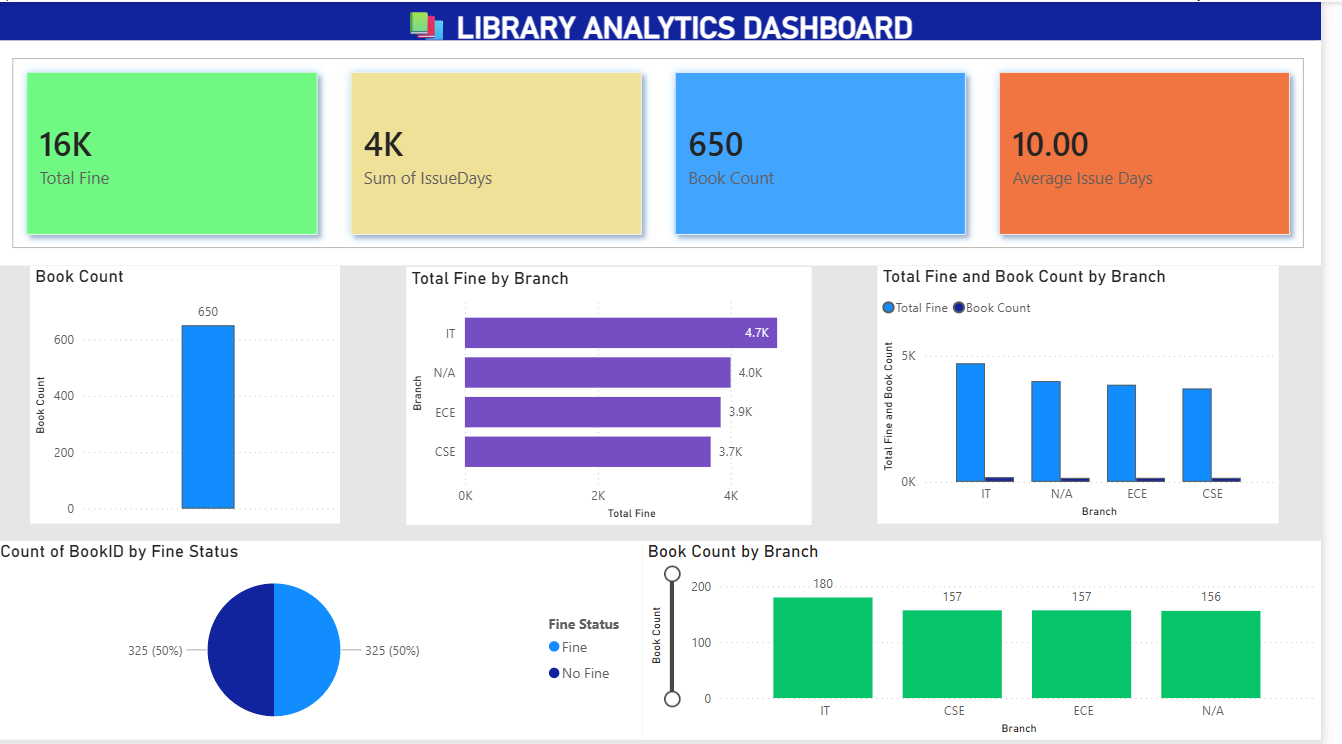

The dashboard page shown, as its layout file describes it:
{"tool":"powerbi","page":{"name":"Page 1","canvas":[1280,720],"ordinal":0},"visuals":[{"type":"cardVisual","fields":{"Data":["Dirty_Library_Analytics_650.Total Fine","Sum(Dirty_Library_Analytics_650.IssueDays)","Dirty_Library_Analytics_650.Book Count","Dirty_Library_Analytics_650.Average Issue Days"]},"box":[0,37.1,1280,217.1],"z":0},{"type":"clusteredColumnChart","fields":{"Y":["Dirty_Library_Analytics_650.Total Fine","Dirty_Library_Analytics_650.Book Count"],"Category":["Dirty_Library_Analytics_650.Branch"]},"box":[851.4,254.3,387.1,248.6],"z":1000},{"type":"clusteredColumnChart","fields":{"Y":["Dirty_Library_Analytics_650.Book Count"]},"box":[33.8,254.6,299.2,248.5],"z":2000},{"type":"clusteredBarChart","fields":{"Category":["Dirty_Library_Analytics_650.Branch"],"Y":["Dirty_Library_Analytics_650.Total Fine"]},"box":[397.1,255.7,391.4,248.6],"z":3000},{"type":"clusteredColumnChart","fields":{"Category":["Dirty_Library_Analytics_650.Branch"],"Y":["Dirty_Library_Analytics_650.Book Count"]},"box":[624.9,520,655.1,191.8],"z":4000},{"type":"pieChart","fields":{"Category":["Dirty_Library_Analytics_650.Fine Status"],"Y":["CountNonNull(Dirty_Library_Analytics_650.BookID)"]},"box":[0,520,624.9,191.8],"z":5000},{"type":"textbox","title":"📚 LIBRARY ANALYTICS DASHBOARD","box":[0,0,1280,37.1],"z":6000}]}

Visuals, with their boxes in screenshot pixels (x1, y1, x2, y2), scaled from the page's 1280x720 canvas onto the 1342x744 screenshot:
cardVisual - Dirty_Library_Analytics_650.Total Fine x Sum(Dirty_Library_Analytics_650.IssueDays): 0, 38, 1341, 263
clusteredColumnChart - Dirty_Library_Analytics_650.Total Fine x Dirty_Library_Analytics_650.Book Count: 893, 263, 1298, 520
clusteredColumnChart - Dirty_Library_Analytics_650.Book Count: 35, 263, 349, 520
clusteredBarChart - Dirty_Library_Analytics_650.Branch x Dirty_Library_Analytics_650.Total Fine: 416, 264, 827, 521
clusteredColumnChart - Dirty_Library_Analytics_650.Branch x Dirty_Library_Analytics_650.Book Count: 655, 537, 1341, 736
pieChart - Dirty_Library_Analytics_650.Fine Status x CountNonNull(Dirty_Library_Analytics_650.BookID): 0, 537, 655, 736
"📚 LIBRARY ANALYTICS DASHBOARD" textbox: 0, 0, 1341, 38
